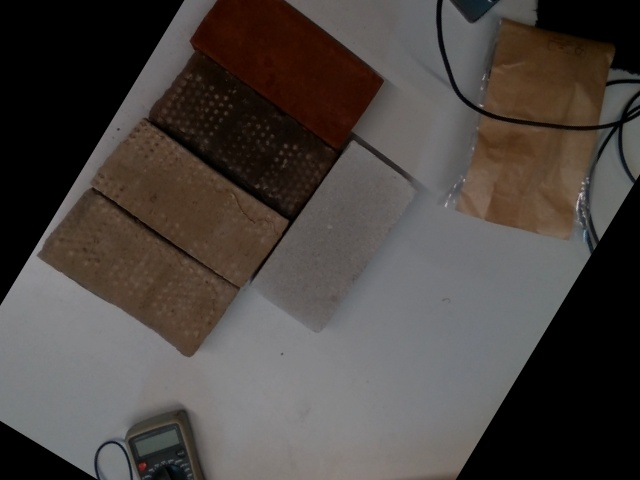brick: (42, 188, 238, 359), (250, 143, 421, 334), (95, 118, 286, 287), (150, 52, 339, 219)
